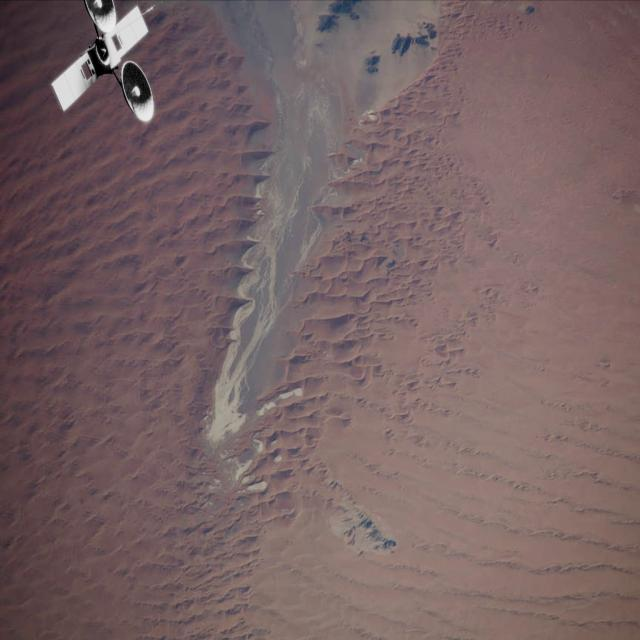satellite: (43, 0, 182, 136)
